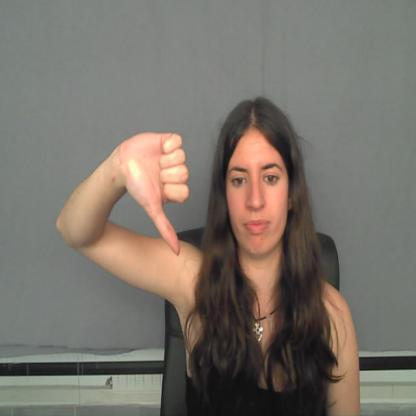thumbs-down: (118, 126, 197, 259)
